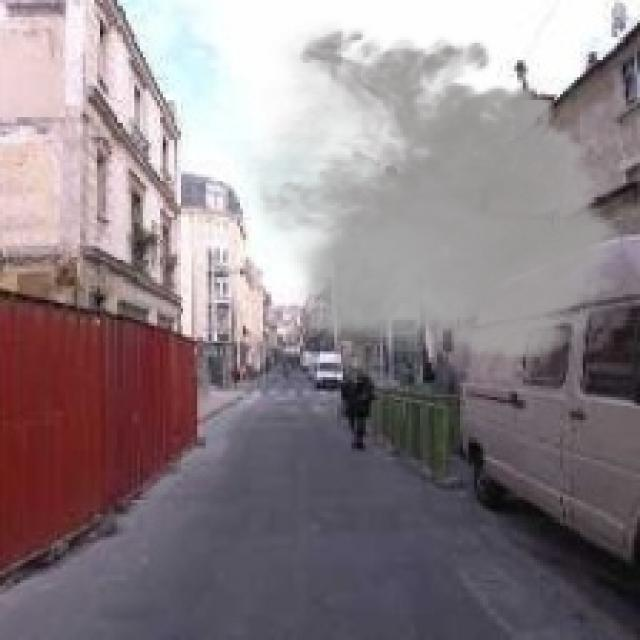Smoke: (234, 17, 637, 372)
